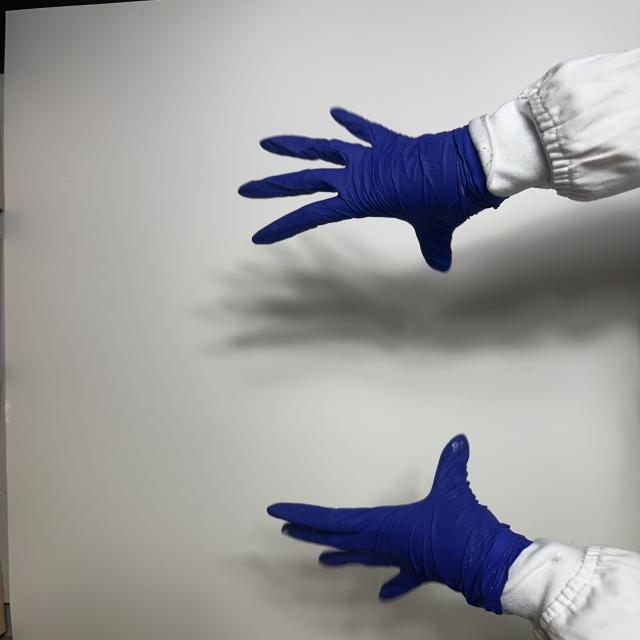gloves_contaminated: (268, 437, 525, 604), (239, 109, 503, 271)
